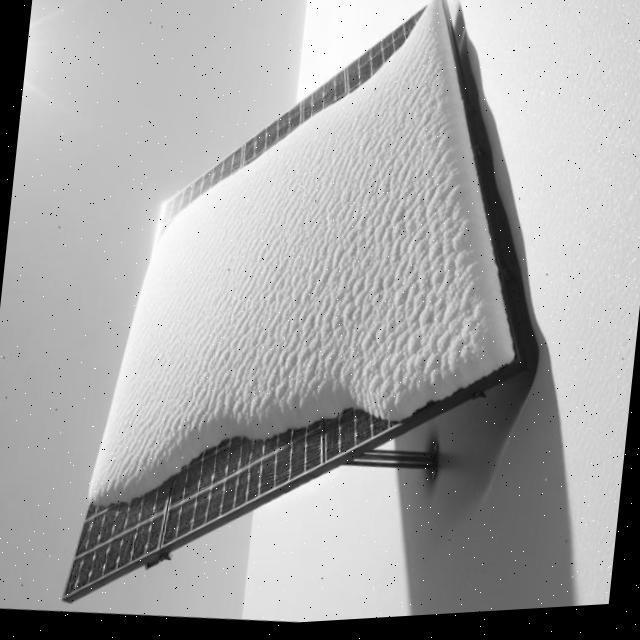Anomaly Solar Panel: (0, 0, 593, 595)
Snow: (12, 0, 532, 511)
